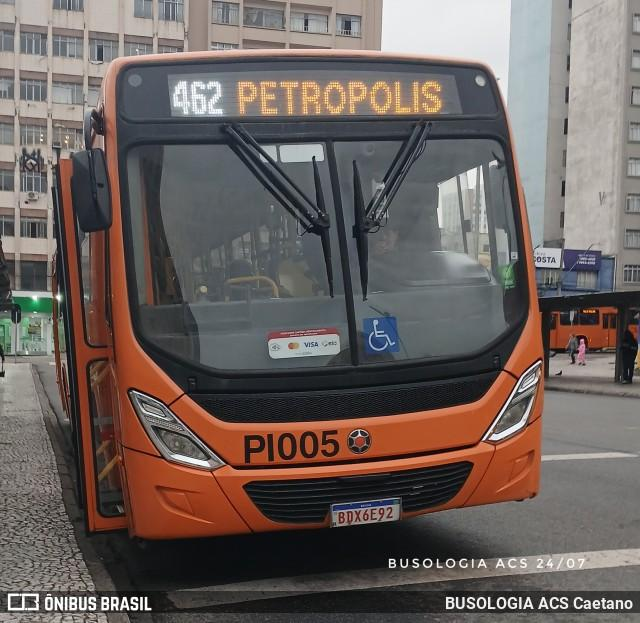PETROPOLIS: (227, 77, 448, 120)
